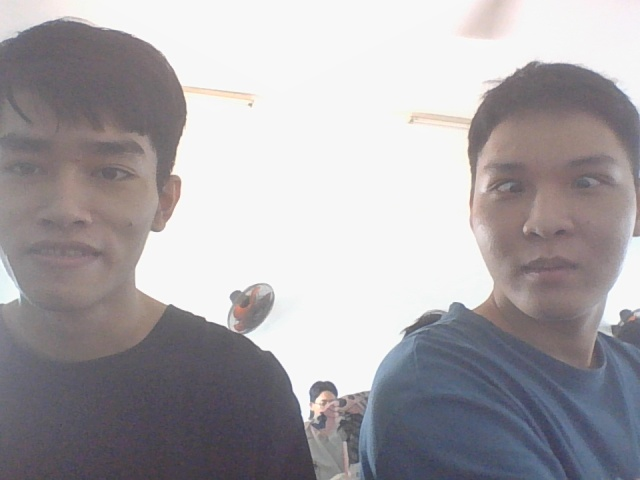real: (0, 1, 240, 341), (450, 43, 640, 338)
